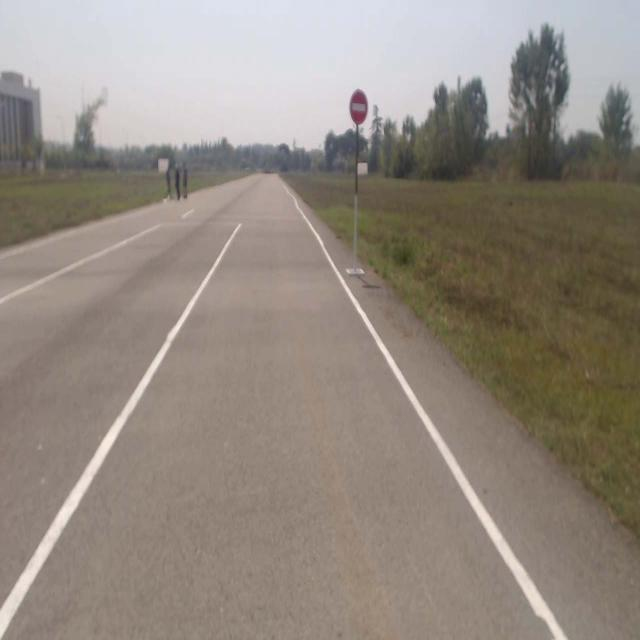girisyok: (350, 90, 368, 124)
